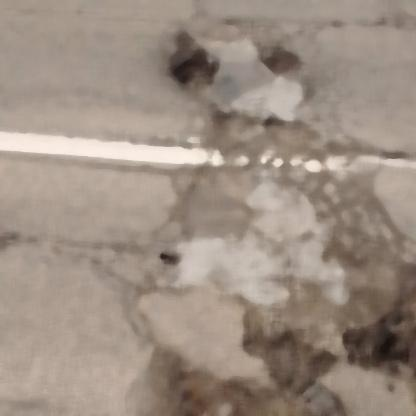Potholes: (342, 313, 416, 364), (170, 50, 235, 102), (250, 46, 308, 92)
